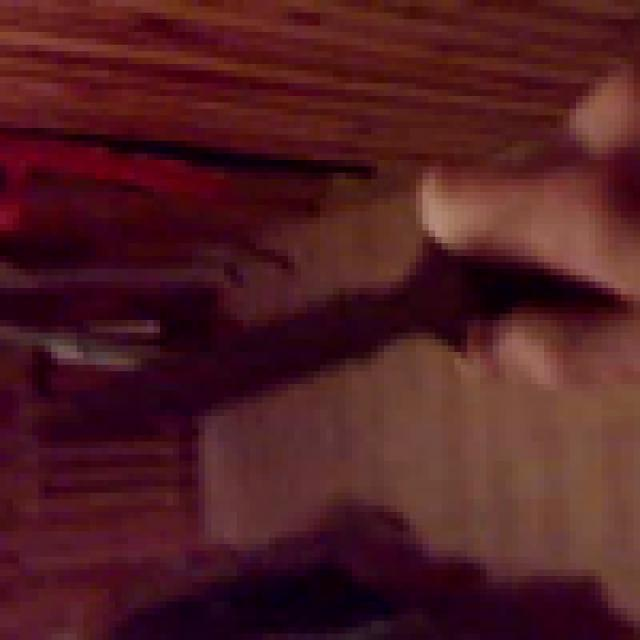knife: (0, 230, 499, 460)
